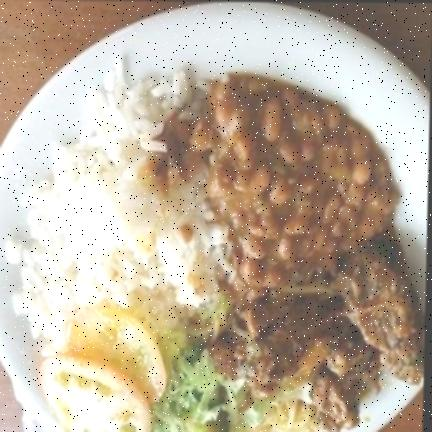beans: (185, 76, 397, 293)
meat: (208, 236, 425, 432)
rice: (9, 64, 236, 359)
salad: (152, 344, 276, 432)
tomato: (41, 309, 166, 432)
